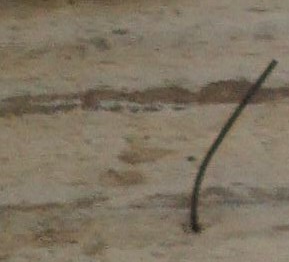Exposed reinforcement: (190, 58, 280, 233)
